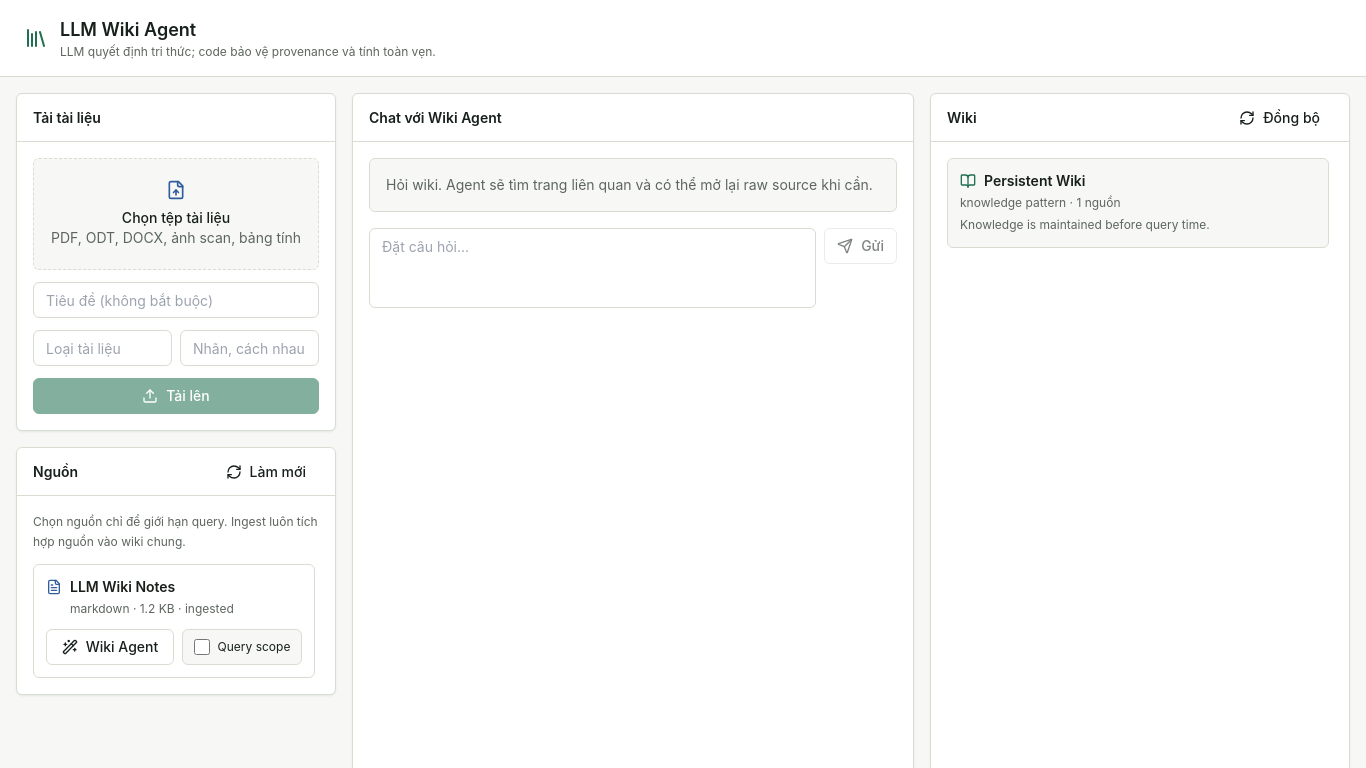
Test case: App › opens a wiki page and rebuilds the deterministic index
This screenshot has width=1366, height=768.
What coordinates should you click on to do the following:
click the button "Persistent Wiki"
I would click on:
 (1035, 180)
Its box is [947, 158, 1329, 248].
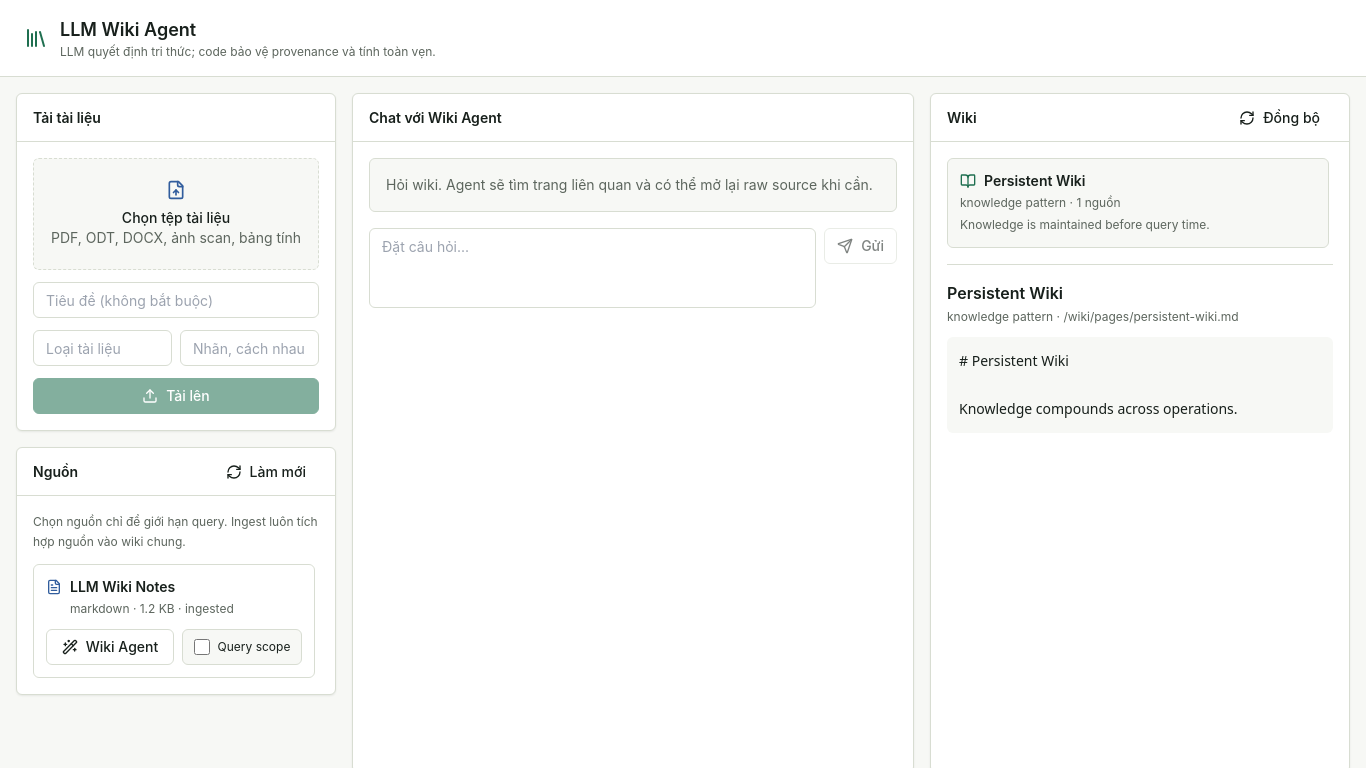
expect the text "# Persistent Wiki Knowledge compounds across operations." is shown: met, box [947, 337, 1333, 433]
What coordinates should you click on to do the following:
click the button "Đồng bộ"
I would click on:
 (1280, 118)
Its box is [1226, 100, 1333, 136].
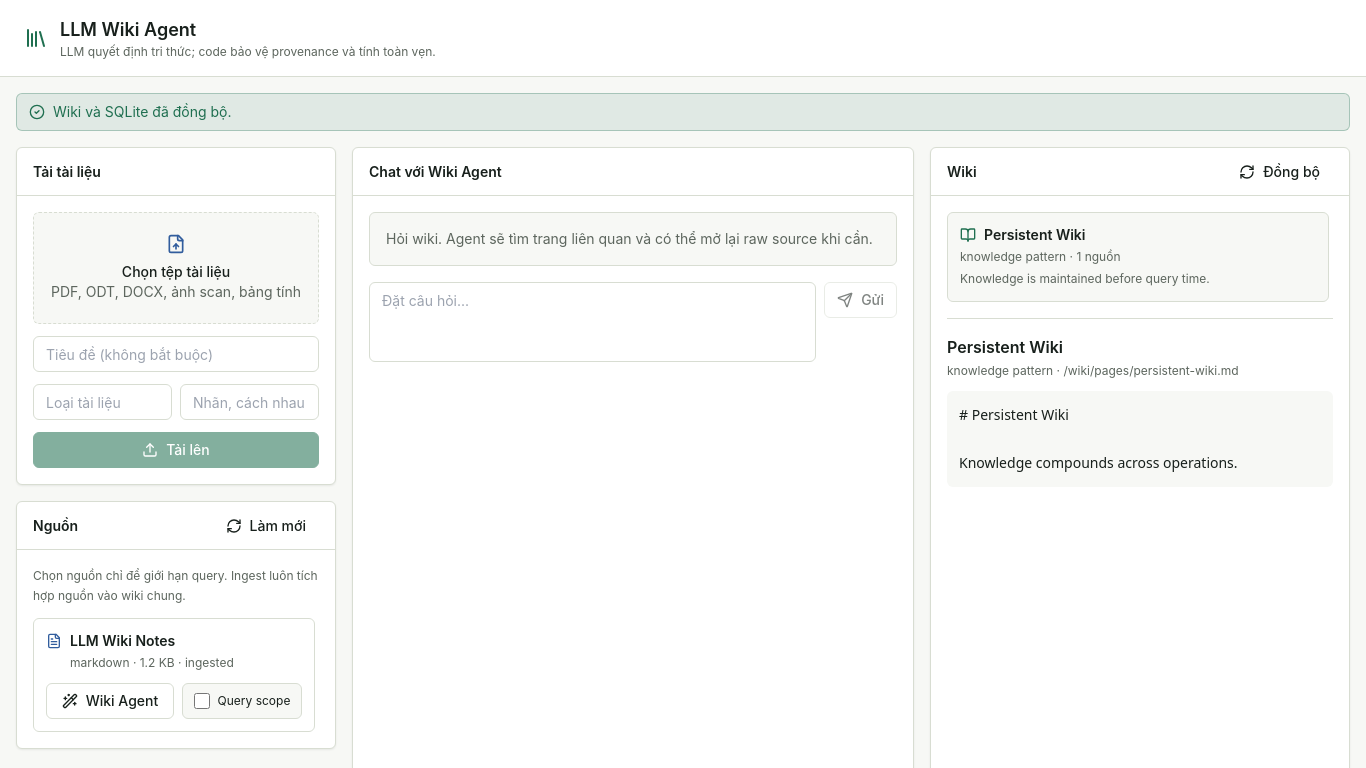
expect the text "Wiki và SQLite đã đồng bộ." is shown: met, box [53, 102, 232, 122]
